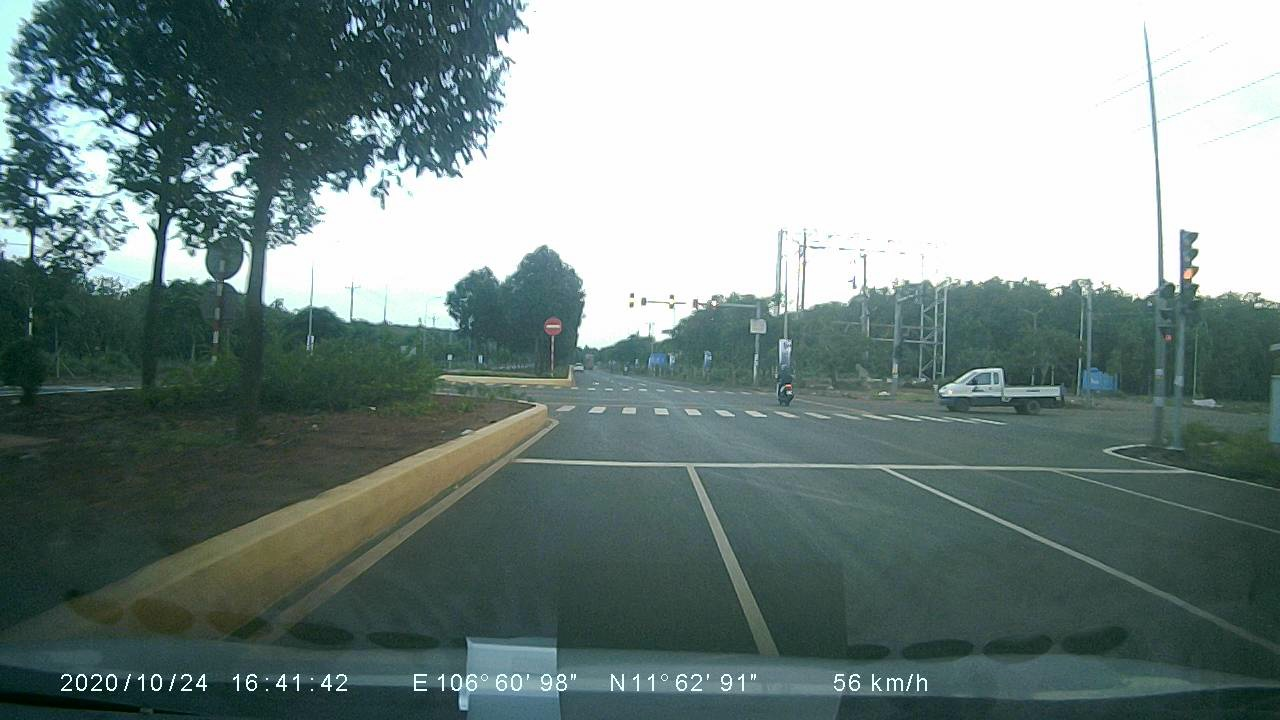Cam di nguoc chieu: (540, 314, 564, 335)
